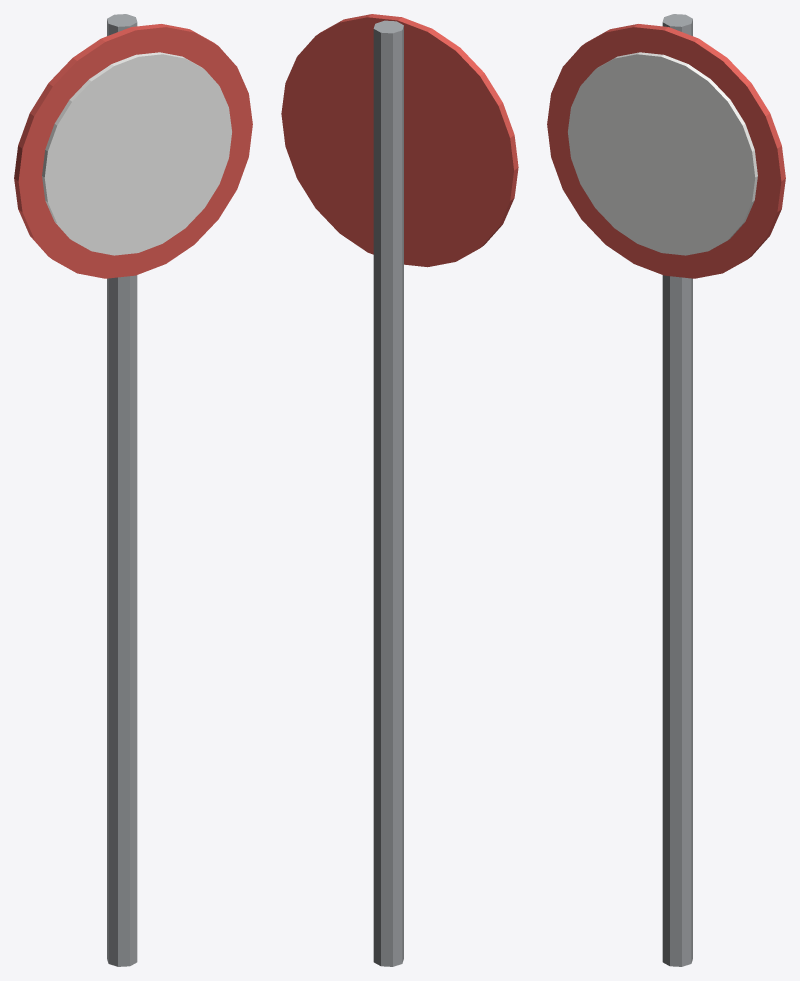
Rendered from sign-stvo.glb.
The picture shows the model from 3 angles, left to right: view 1: azimuth 30°, elevation 25°; view 2: azimuth 150°, elevation 25°; view 3: azimuth 330°, elevation 25°; orthographic projection.
Visible parts, largest first — view 1: sign-stvo; view 2: sign-stvo; view 3: sign-stvo.
Part boxes in pixels (left/top/right/bottom): sign-stvo: left=14, top=14, right=252, bottom=966; sign-stvo: left=281, top=14, right=518, bottom=966; sign-stvo: left=547, top=14, right=785, bottom=966.
Bounding box in the file's own units: 0.6 × 2.3 × 0.107.
